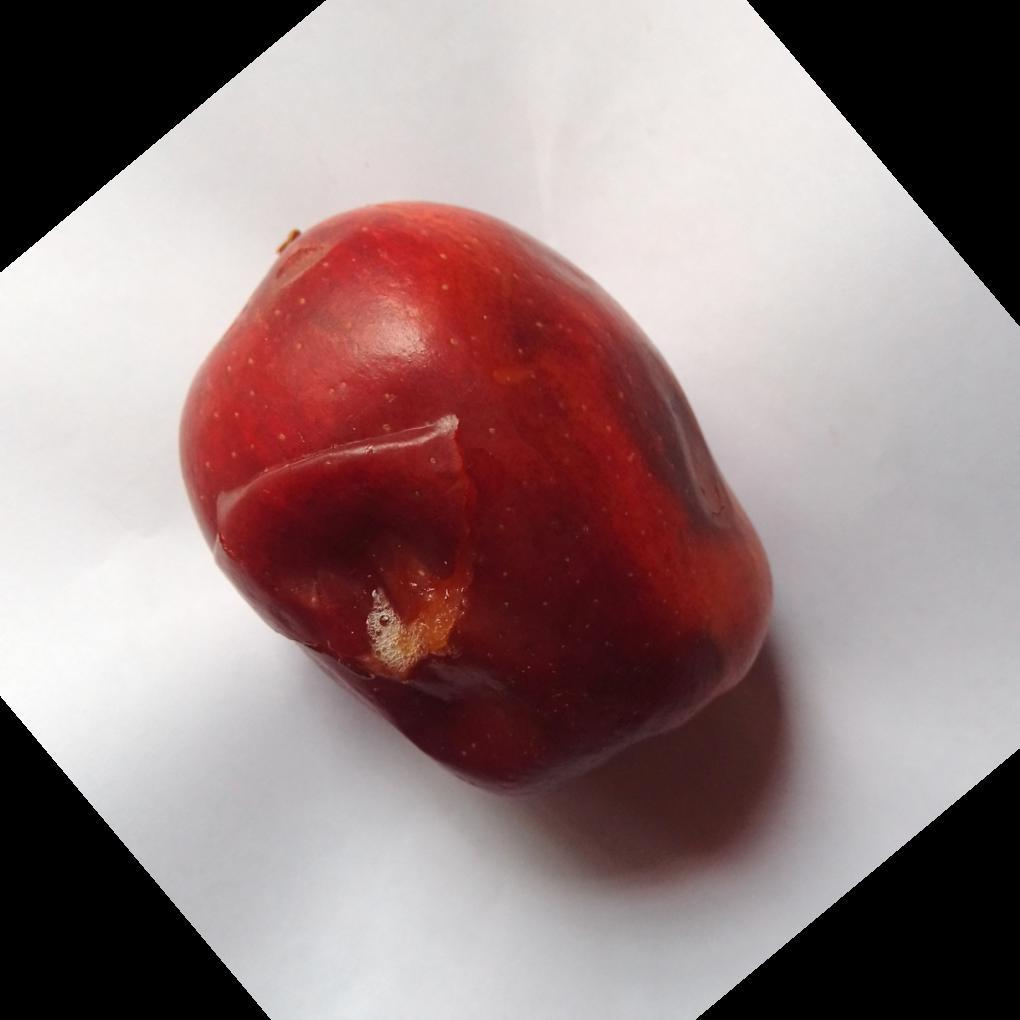FreshOrange: (177, 201, 776, 798)
